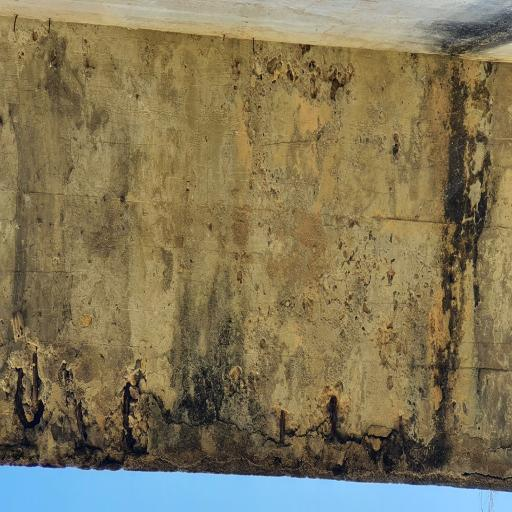exposed_rebar: (15, 352, 44, 428), (123, 382, 134, 452), (76, 402, 86, 437), (329, 396, 337, 439), (280, 411, 286, 444)
